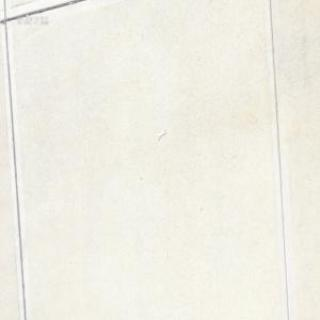Wrenchtrack_idkeyframe: (156, 129, 165, 140)
